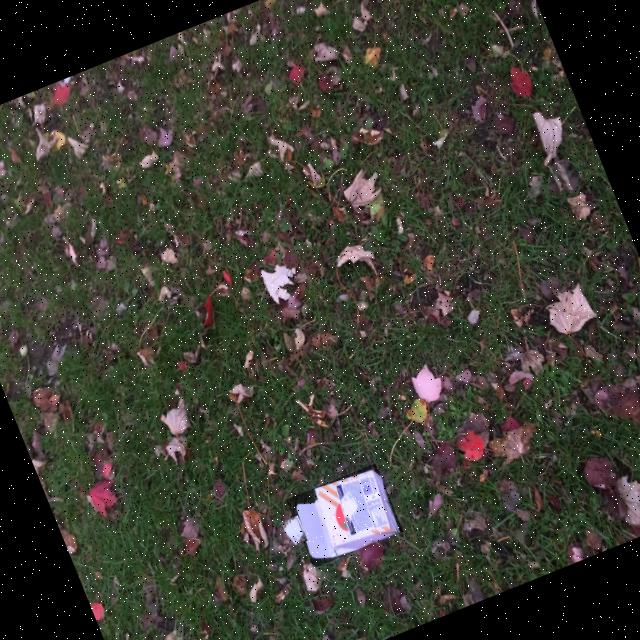Meal carton: (295, 469, 400, 558)
Plastic film: (284, 516, 304, 544)
